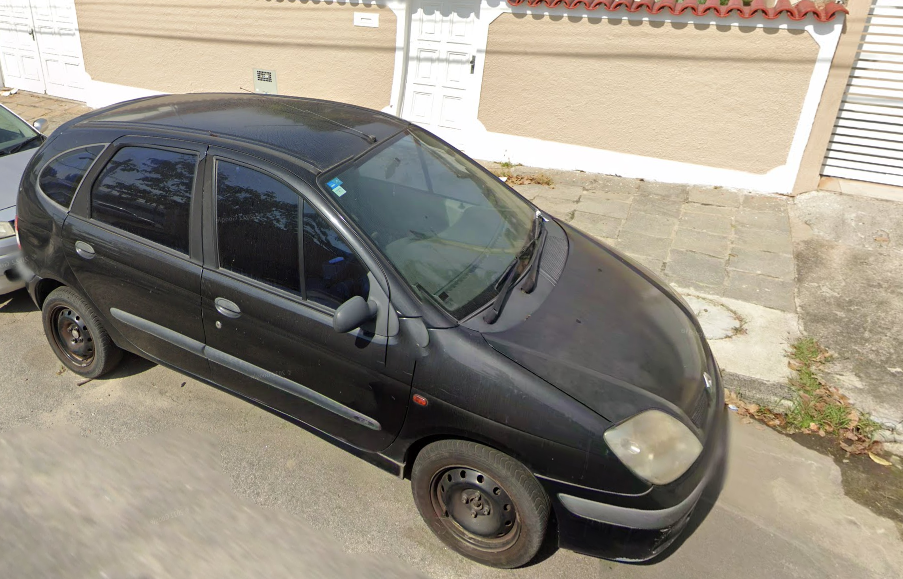car: (12, 92, 727, 571)
